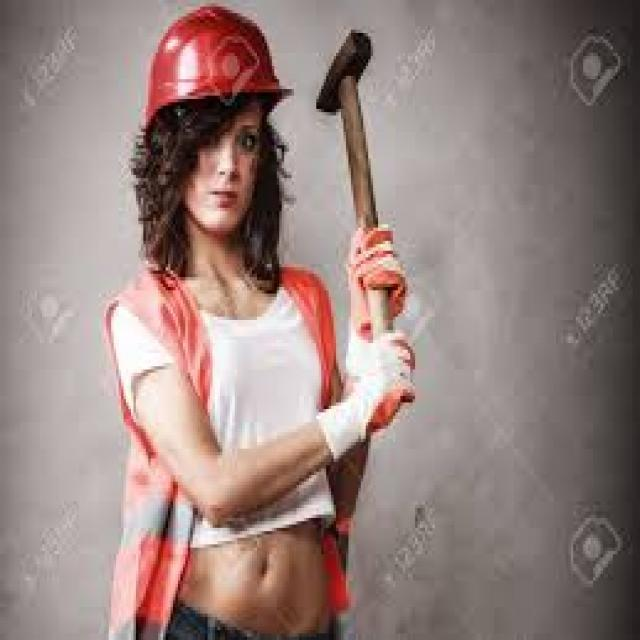hammer: (313, 23, 402, 432)
